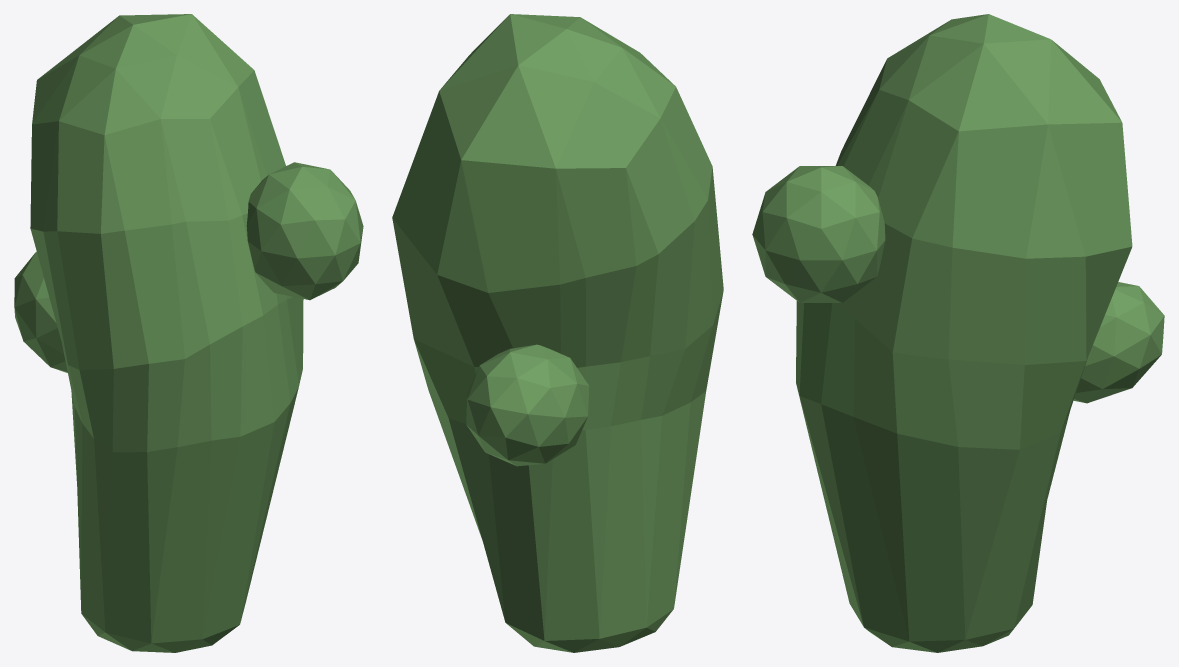
The model's file is Cactus_V01.fbx.
3 views of the same model, side by side, from view 1: azimuth 30°, elevation 25°; view 2: azimuth 150°, elevation 25°; view 3: azimuth 270°, elevation 25° (orthographic). The views are drawn at different scales.
Visible parts, largest first — view 1: Cactus_V01; view 2: Cactus_V01; view 3: Cactus_V01.
Boxes of the visible parts, x1,y1,x2,y2 form: Cactus_V01: [14, 14, 363, 652]; Cactus_V01: [392, 14, 723, 652]; Cactus_V01: [752, 14, 1164, 652].
Bounding box in the file's own units: 75.62 × 176 × 106.
